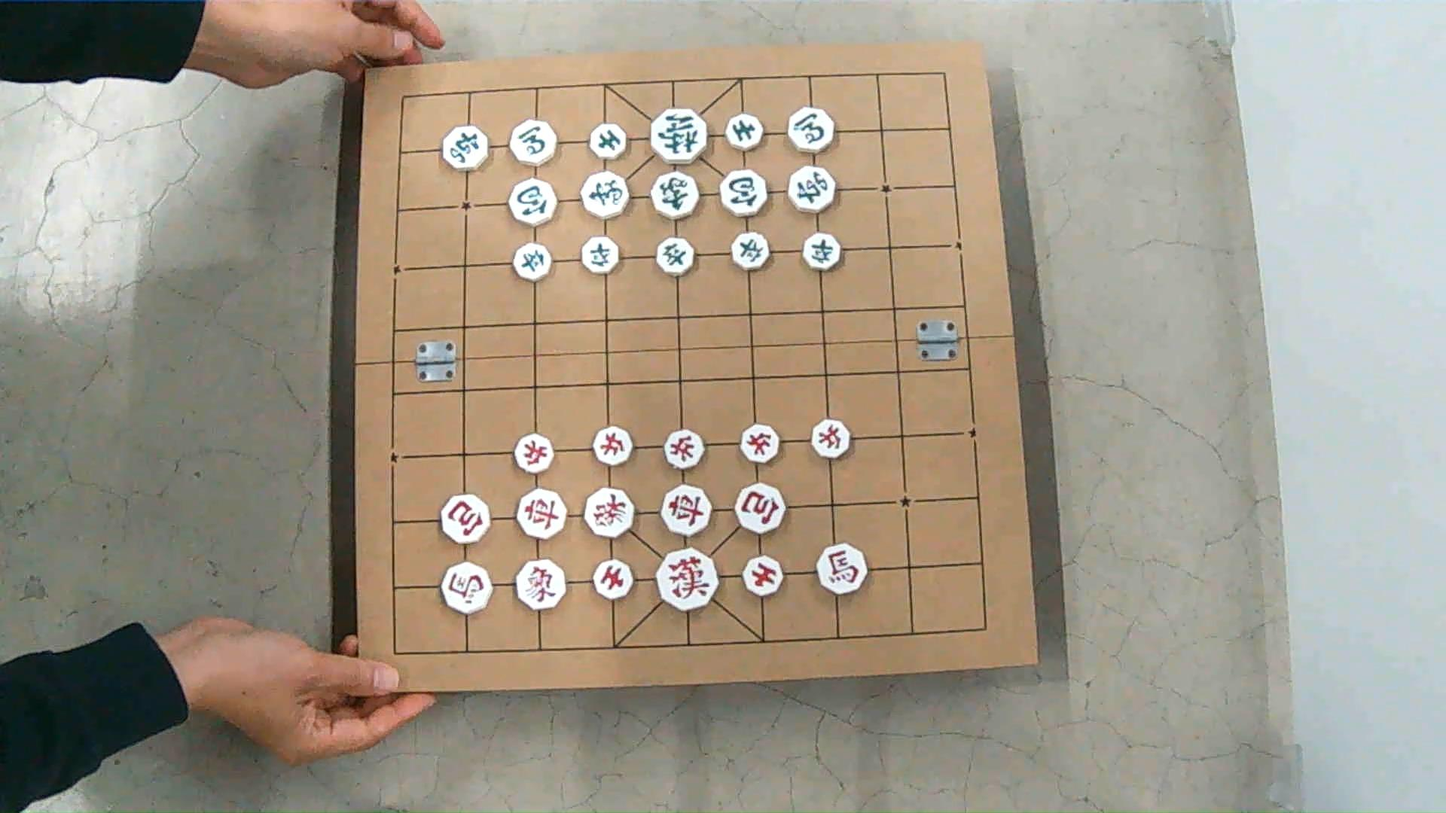cha_green: (789, 166, 839, 212), (443, 126, 489, 170)
cha_red: (661, 485, 712, 536), (517, 489, 566, 539)
jol_green: (657, 237, 694, 275), (513, 243, 551, 280), (582, 236, 619, 274), (804, 233, 842, 270), (733, 233, 770, 269)
jol_red: (664, 429, 704, 470), (593, 426, 633, 466), (811, 419, 851, 459), (514, 434, 554, 473), (740, 425, 779, 463)
ma_green: (788, 107, 836, 153), (510, 120, 557, 165)
ma_red: (442, 562, 492, 613), (817, 544, 867, 594)
po_green: (719, 169, 768, 216), (509, 178, 556, 225)
po_red: (736, 483, 786, 533), (441, 494, 490, 544)
sa_green: (588, 123, 629, 160), (725, 114, 764, 151)
sa_red: (593, 559, 632, 599), (743, 556, 782, 595)
sang_green: (651, 172, 700, 219), (581, 172, 630, 218)
sang_red: (516, 559, 566, 609), (584, 488, 634, 537)
wang_green: (650, 108, 709, 163)
wang_red: (657, 548, 718, 610)
